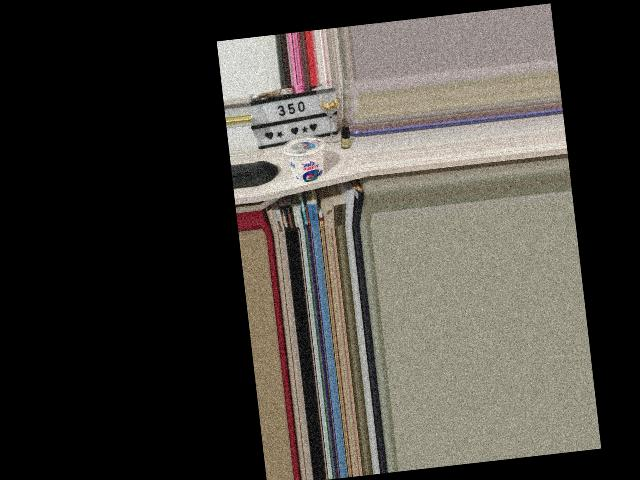cotage: (284, 133, 326, 186)
